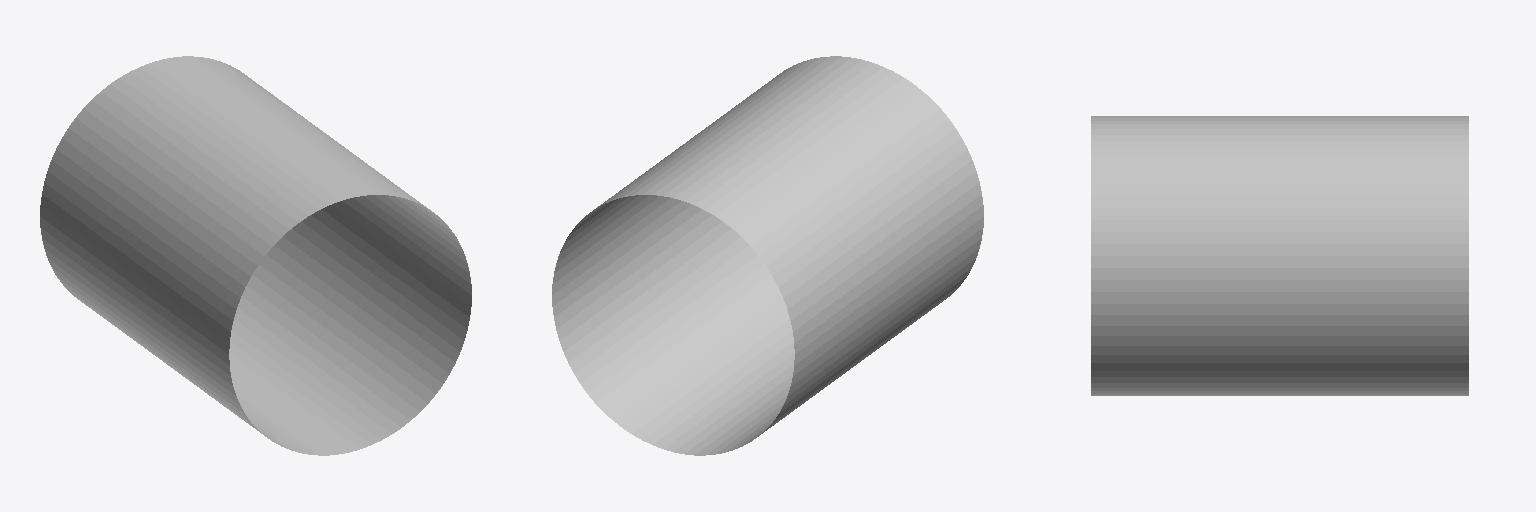
File: Strips_Barrel_passives_l8.obj
The picture shows the model from 3 angles: view 1: azimuth 30°, elevation 25°; view 2: azimuth 150°, elevation 25°; view 3: azimuth 270°, elevation 25°; orthographic projection.
Size of the model in its own units: 2035 by 2035 by 2748.